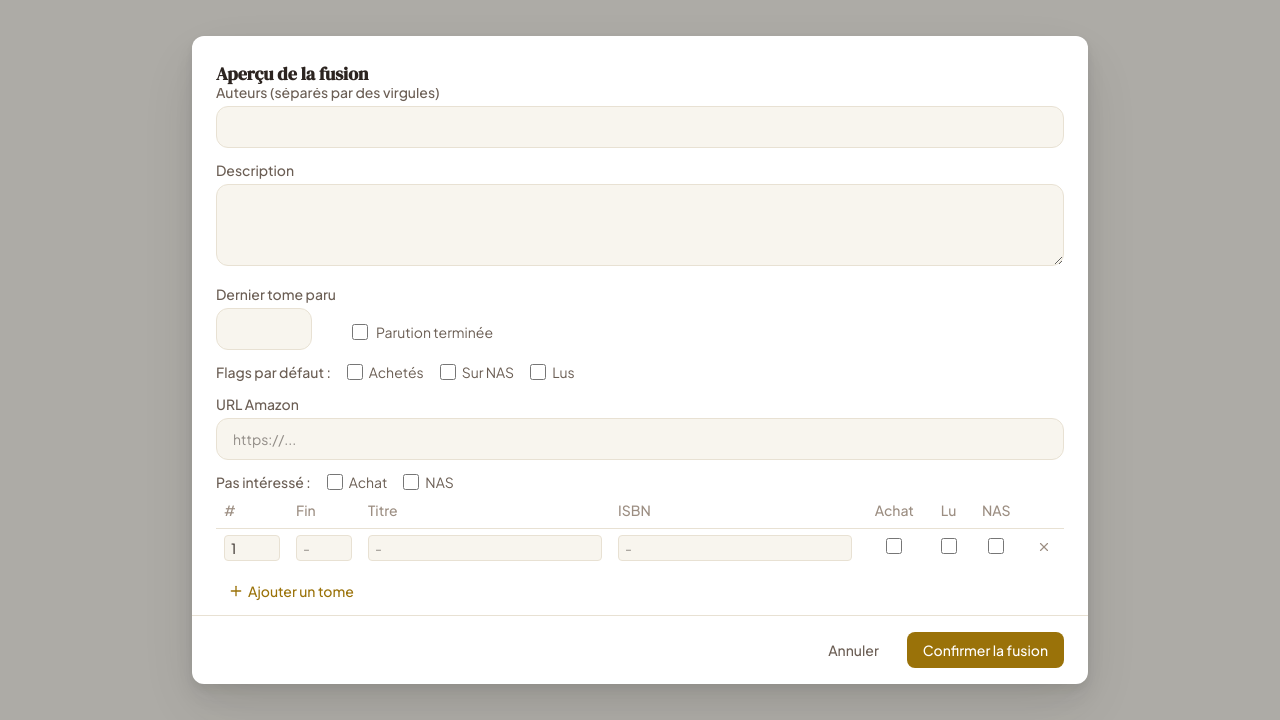
Test case: MergePreviewModal — add tome › adds a new tome row when clicking the add button
(page scrolled)
Expected: the number of rows is 2, [216,492,1064,528]; [216,528,1064,567]
Click the button "Ajouter un tome" at [291, 591], box [216,575,366,607]
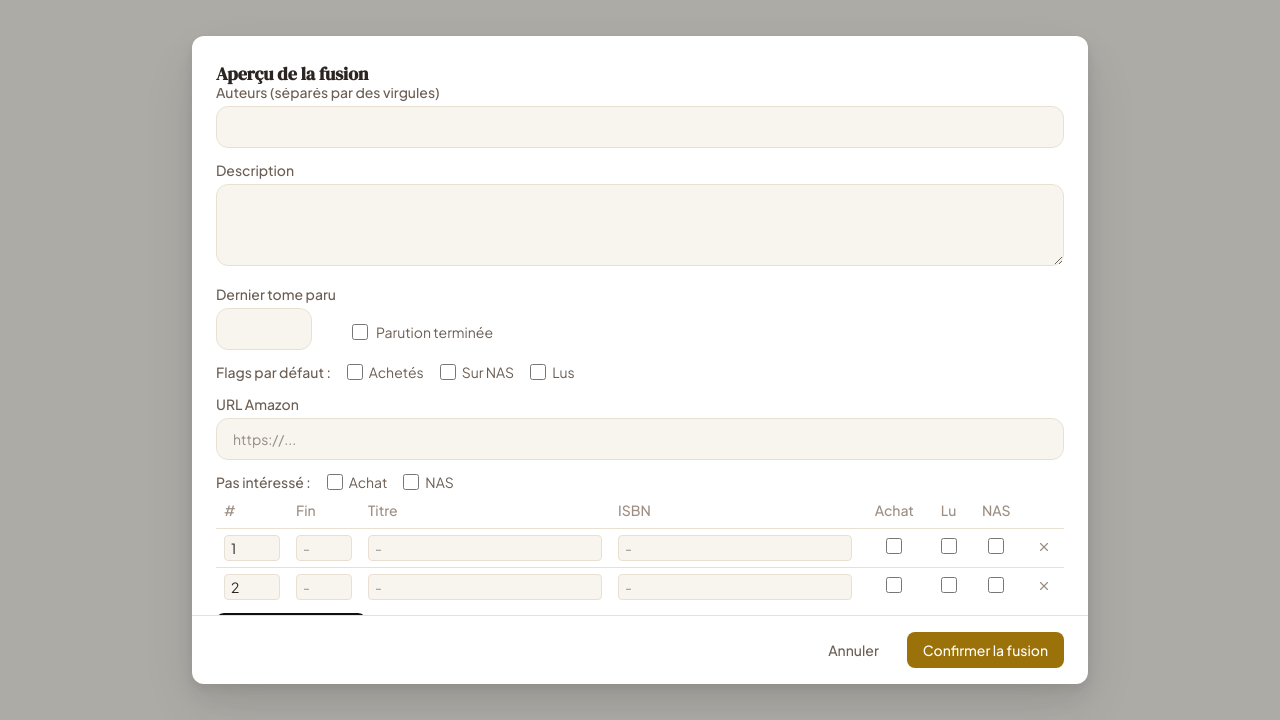
Expected: the number of rows is 3, [216,492,1064,528]; [216,528,1064,568]; [216,568,1064,606]
